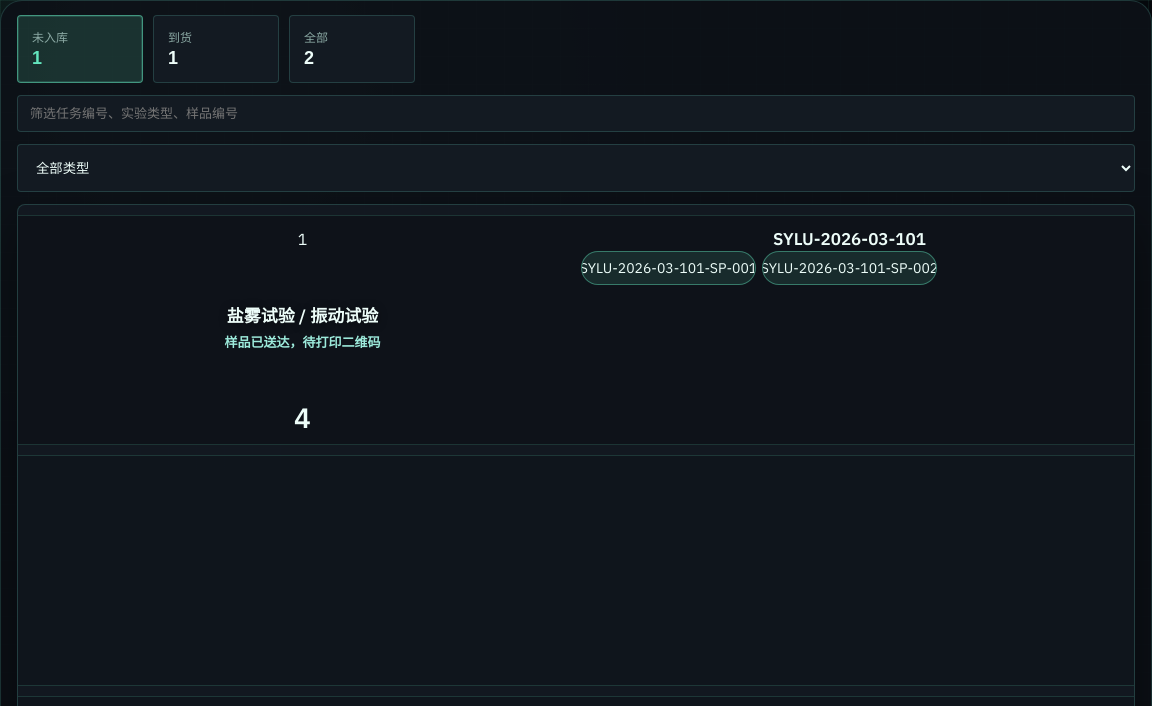
Test: TransferWorkbench runtime › blocks saving when a loaded tray has no assigned experiment
Step 1. Click the button with test id "transfer-task-row-101" → [576, 330], box [18,215,1134,445]
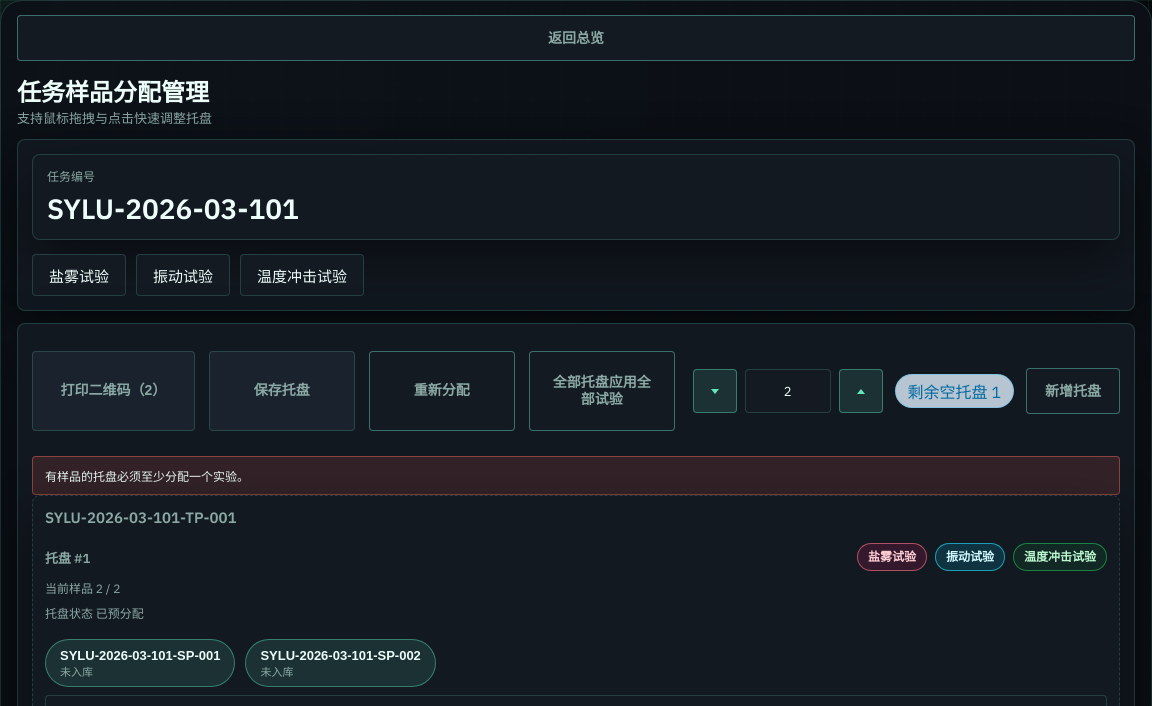
Now the button with test id "transfer-save-trays" is disabled, box [209,351,355,431]
Now the text "有样品的托盘必须至少分配一个实验" is shown, box [45,469,249,484]
